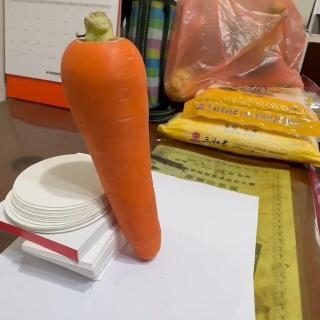carrot: (60, 12, 162, 264)
